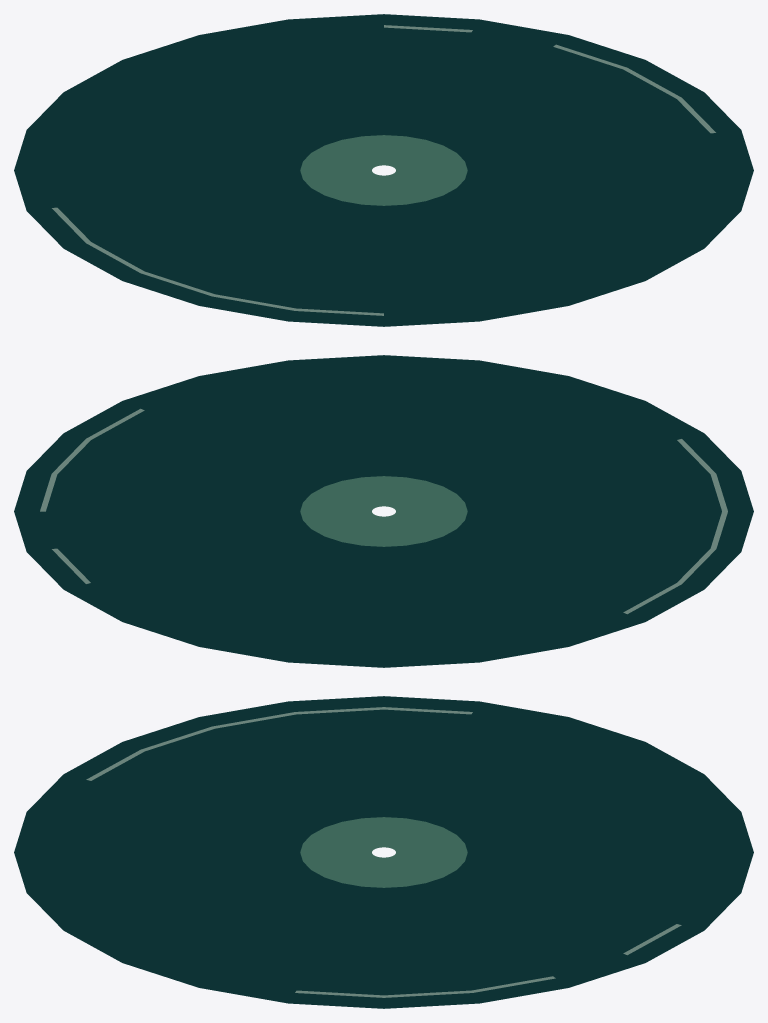
File: VinylGreen.fbx
3 renders of one model, top to bottom at view 1: azimuth 30°, elevation 25°; view 2: azimuth 150°, elevation 25°; view 3: azimuth 270°, elevation 25°, orthographic.
Parts seen in each view (by area): view 1: vinylGreen_geo; view 2: vinylGreen_geo; view 3: vinylGreen_geo.
Part boxes in pixels (x1,y1,x2,y2): vinylGreen_geo: [14, 14, 753, 326]; vinylGreen_geo: [14, 355, 753, 667]; vinylGreen_geo: [14, 696, 753, 1008].
Bounding box in the file's own units: 182 × 4.09e-15 × 182.
